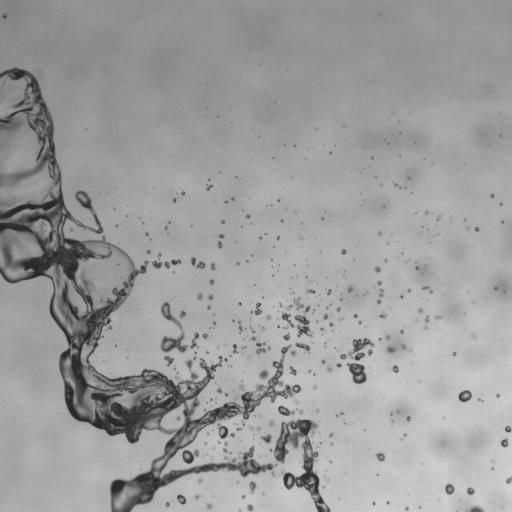droplet: (160, 302, 198, 353), (340, 338, 374, 384), (281, 297, 312, 337), (250, 336, 270, 354), (458, 390, 471, 402), (251, 302, 261, 315), (164, 355, 174, 366), (260, 434, 272, 443), (445, 483, 454, 494), (249, 481, 257, 493), (177, 494, 186, 504), (376, 452, 385, 461), (500, 438, 508, 447), (386, 346, 395, 353), (290, 366, 297, 375), (179, 310, 186, 318), (467, 487, 474, 495), (283, 333, 290, 340), (391, 365, 398, 372), (232, 344, 237, 353), (504, 426, 511, 432), (247, 504, 253, 511), (206, 184, 212, 190), (374, 266, 380, 272), (347, 285, 353, 291), (326, 366, 332, 372), (217, 241, 222, 248), (210, 263, 215, 270), (379, 313, 386, 318), (506, 476, 511, 483), (306, 289, 314, 293), (394, 183, 400, 188), (197, 293, 202, 299), (424, 316, 429, 322), (320, 327, 325, 333), (401, 344, 406, 350), (269, 420, 274, 426), (206, 503, 211, 509), (341, 249, 346, 254), (209, 279, 214, 284), (208, 294, 213, 299), (418, 308, 423, 313), (266, 315, 271, 320), (323, 314, 328, 319), (202, 333, 207, 338), (217, 388, 222, 393), (194, 494, 199, 499), (327, 289, 331, 295), (2, 13, 6, 18), (245, 214, 250, 218), (436, 215, 440, 220), (377, 280, 381, 285), (435, 315, 440, 319), (260, 326, 264, 331), (386, 334, 390, 339), (406, 416, 410, 421), (181, 191, 185, 195), (172, 198, 176, 202), (219, 234, 223, 238), (364, 291, 368, 295), (336, 307, 340, 311), (321, 359, 325, 363), (337, 363, 341, 367), (176, 416, 180, 420), (237, 426, 241, 430), (329, 433, 333, 437), (198, 478, 202, 482), (241, 494, 245, 498), (165, 502, 169, 506), (475, 227, 478, 231), (378, 231, 381, 235), (494, 286, 497, 290), (329, 323, 333, 326), (472, 334, 476, 337), (313, 385, 316, 389), (478, 398, 482, 401), (405, 507, 408, 511), (231, 197, 234, 200), (425, 211, 428, 214), (164, 226, 167, 229), (276, 236, 279, 239), (147, 250, 150, 253), (400, 295, 403, 298), (279, 303, 282, 306), (400, 330, 403, 333), (378, 337, 381, 340), (294, 399, 297, 402), (386, 501, 389, 504), (407, 177, 410, 179), (225, 200, 227, 203), (222, 220, 224, 223), (145, 233, 148, 235), (259, 236, 261, 239), (408, 288, 410, 291), (239, 302, 241, 305), (207, 306, 210, 308), (354, 314, 356, 317), (339, 318, 342, 320), (358, 321, 361, 323), (453, 352, 455, 355), (307, 370, 310, 372), (224, 393, 227, 395), (496, 394, 499, 396), (316, 409, 319, 411), (372, 502, 375, 504), (500, 203, 502, 205), (385, 259, 387, 261), (237, 262, 239, 264), (416, 266, 418, 268), (425, 326, 427, 328), (324, 343, 326, 345), (242, 346, 244, 348), (206, 351, 208, 353), (210, 398, 212, 400), (340, 412, 342, 414)
ligament: (0, 72, 330, 511), (151, 253, 181, 268), (278, 405, 303, 416), (190, 257, 205, 268), (295, 342, 310, 352), (465, 505, 484, 511), (377, 288, 383, 303), (237, 320, 244, 332), (422, 286, 433, 293), (222, 442, 228, 453), (249, 426, 260, 430), (250, 327, 254, 333)
